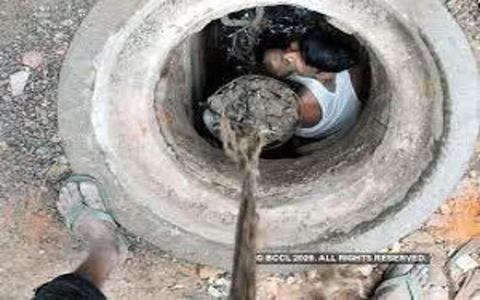open manhole: (101, 1, 394, 227)
